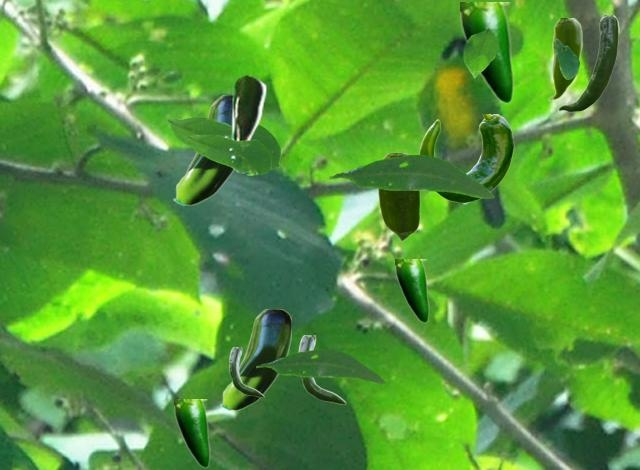green_chili: (419, 114, 513, 201), (219, 309, 290, 410), (172, 95, 234, 205), (558, 15, 618, 111), (460, 2, 513, 103), (377, 153, 419, 240), (298, 335, 345, 403), (547, 18, 581, 100), (228, 74, 266, 139), (174, 399, 209, 467), (395, 259, 428, 322), (229, 347, 263, 396)
